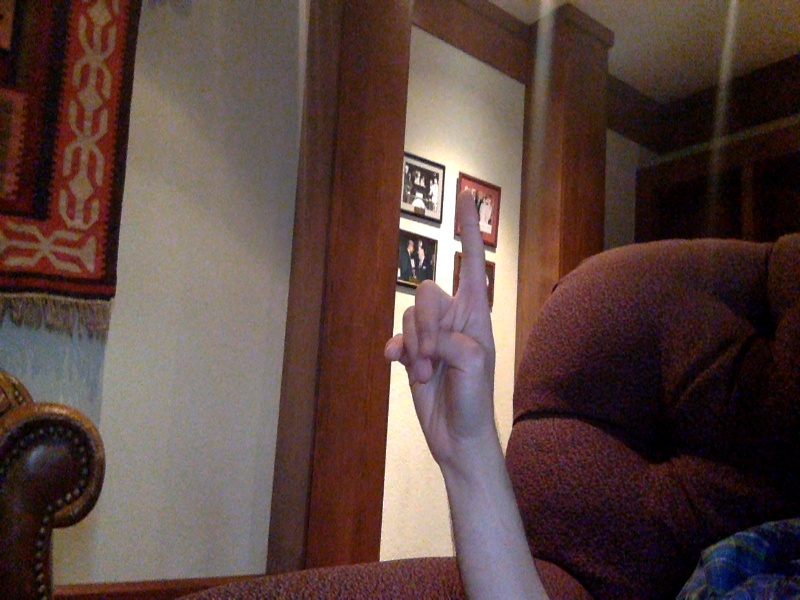1-hand: (400, 191, 501, 458)
